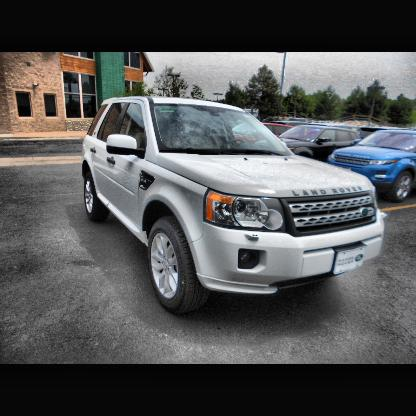Land Rover LR2 SUV 2012: (84, 98, 389, 314)
